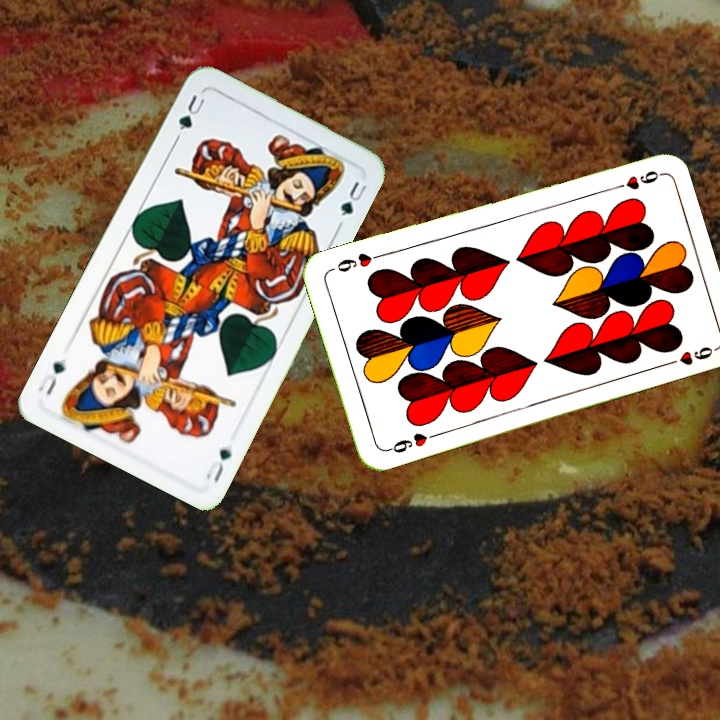GU: (171, 90, 209, 143), (202, 444, 235, 486)
H9: (382, 428, 440, 456), (605, 166, 663, 194)
